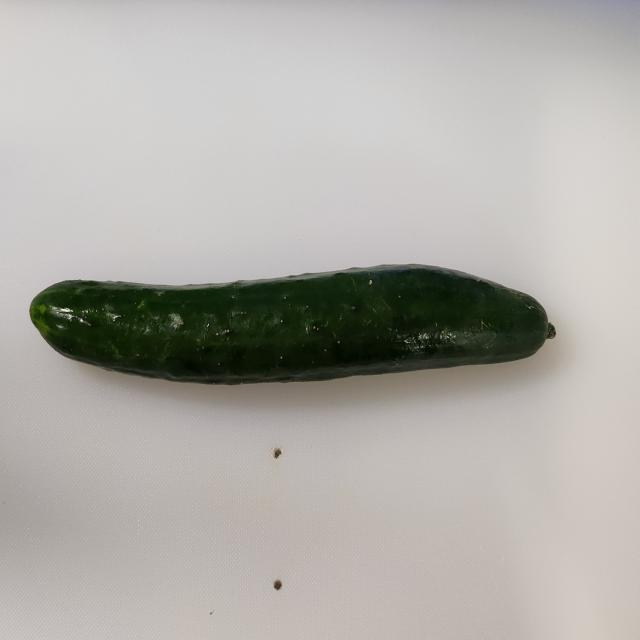cucumber: (29, 262, 556, 385)
